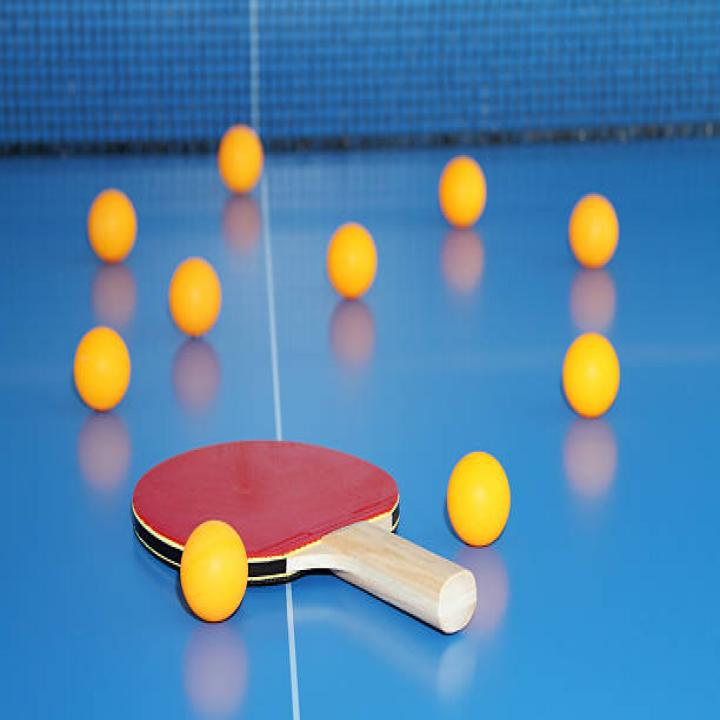orange: (178, 519, 247, 623), (447, 452, 509, 550), (73, 323, 131, 411), (561, 332, 619, 416), (570, 192, 622, 276), (168, 258, 219, 337), (328, 222, 376, 296), (440, 155, 486, 226), (90, 191, 134, 261), (218, 126, 262, 192)
